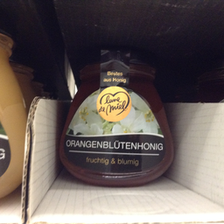honey: (59, 51, 178, 185)
